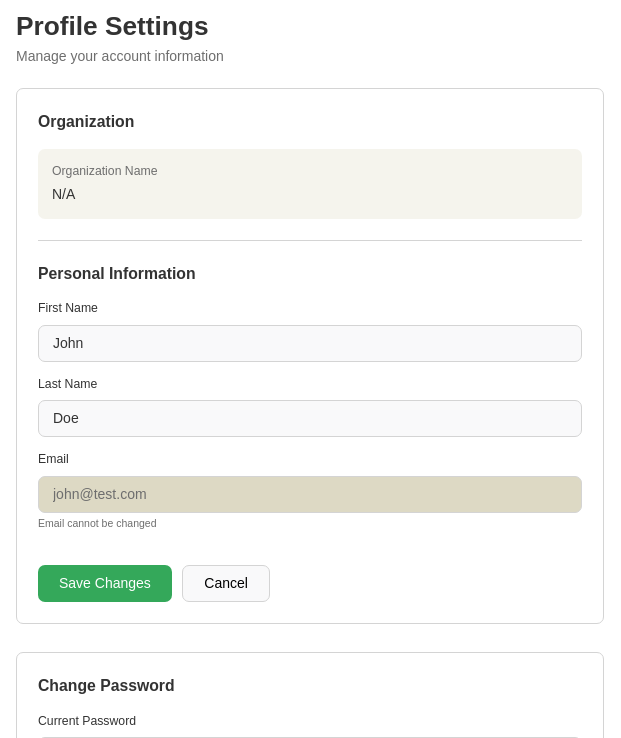
Scenario: ProfileSettings.vue › updates profile
Step 1. Type "Jane" into the field with id "first_name" → (310, 343), box [38,324,582,362]
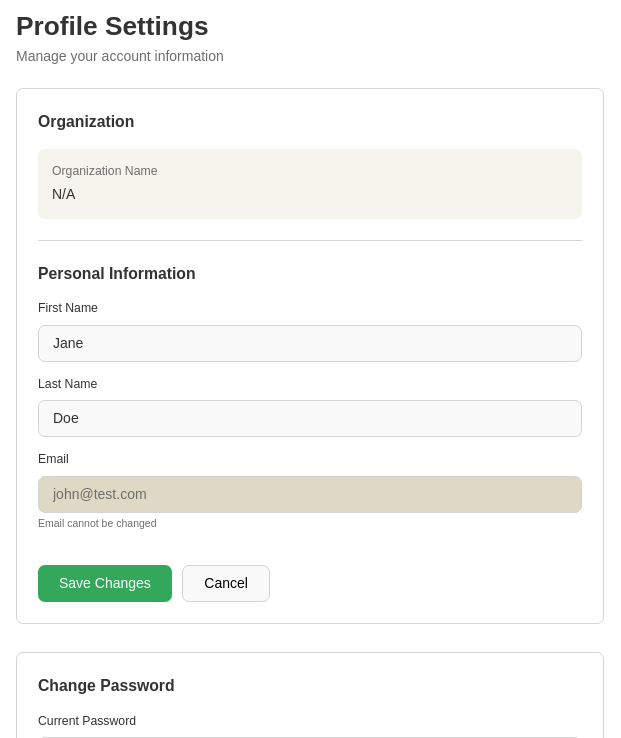
# Find save button (first submit button)
Step 2. Submit the form that starts with "Organization"
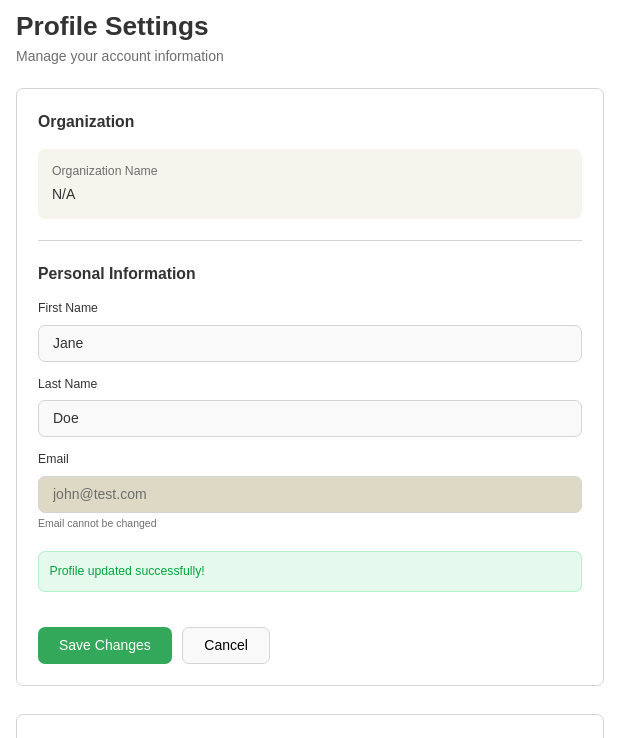
Now the text "Profile updated successfully" is shown, box [50,564,205,578]
